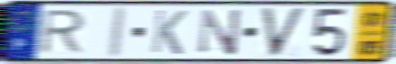5: (309, 7, 351, 58)
I: (105, 5, 130, 60)
K: (149, 8, 190, 57)
N: (198, 7, 244, 57)
R: (36, 8, 90, 56)
V: (259, 6, 309, 59)
